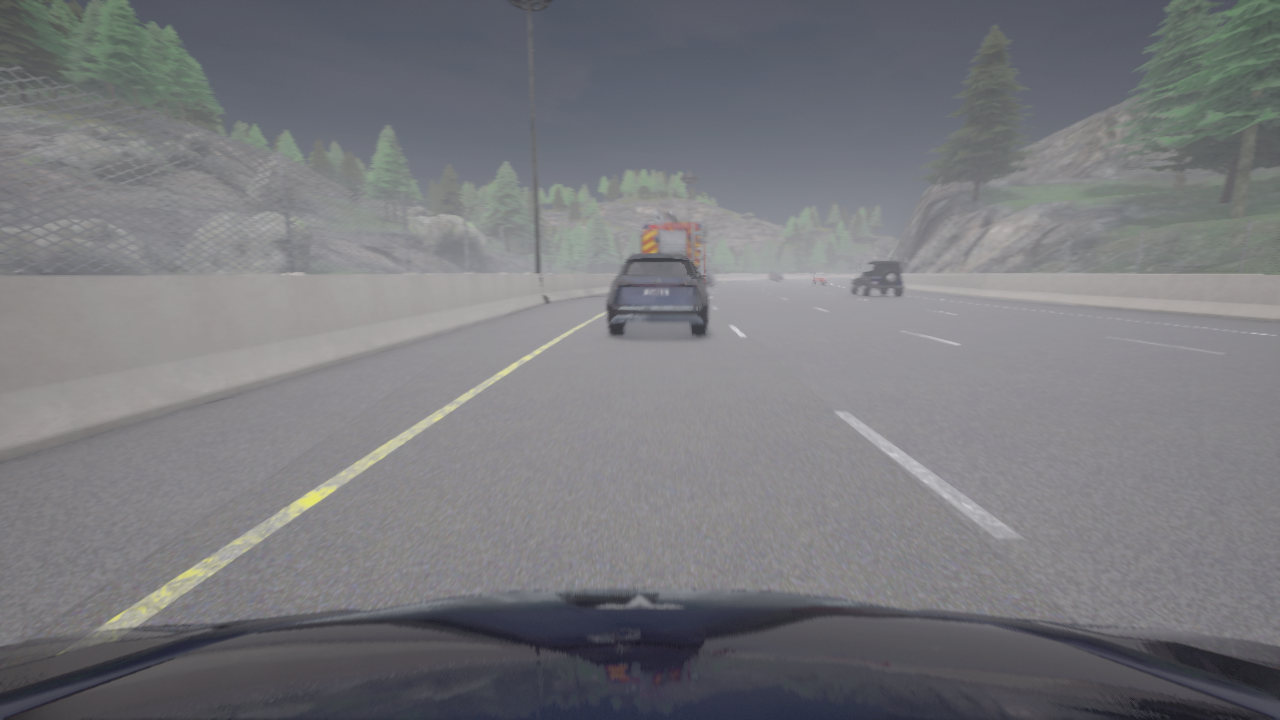cyclist: (0, 588, 1279, 719), (607, 251, 707, 335), (641, 212, 710, 289), (850, 260, 904, 296), (811, 272, 826, 285), (706, 269, 714, 287), (768, 272, 782, 280)
